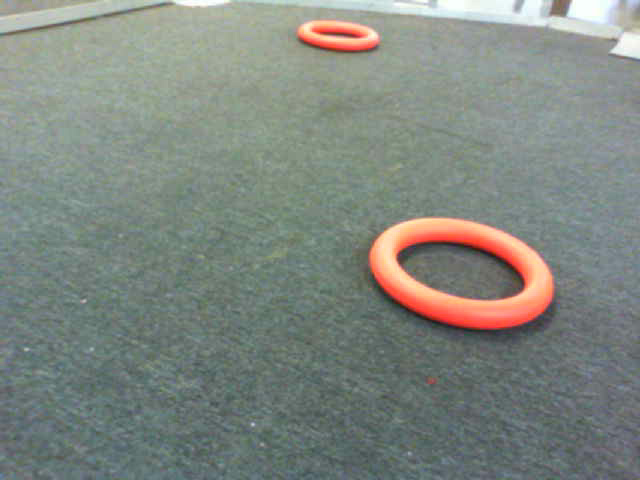Note: (370, 218, 563, 337), (301, 22, 386, 58)
